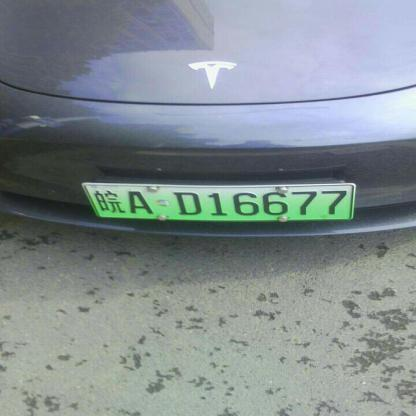lp: (84, 184, 356, 217)
